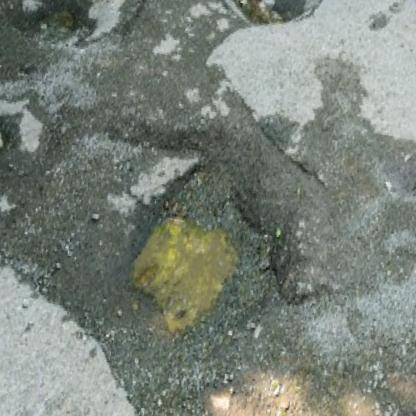pothole: (113, 175, 259, 347), (207, 358, 341, 416), (17, 0, 81, 52), (222, 0, 293, 29), (0, 104, 19, 160)
